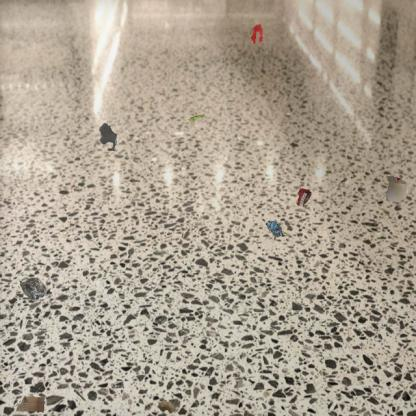dirty: (384, 174, 415, 204), (18, 275, 48, 302), (16, 394, 46, 416), (264, 219, 292, 240), (294, 186, 313, 210), (156, 397, 178, 415), (185, 113, 206, 124)
liquid: (99, 123, 117, 151), (250, 23, 264, 47)
